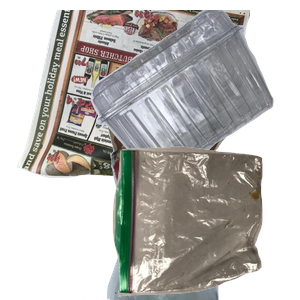glass: (83, 120, 294, 300)
paper: (14, 10, 254, 190)
plastic: (88, 10, 300, 180)
trash: (110, 144, 300, 300)
